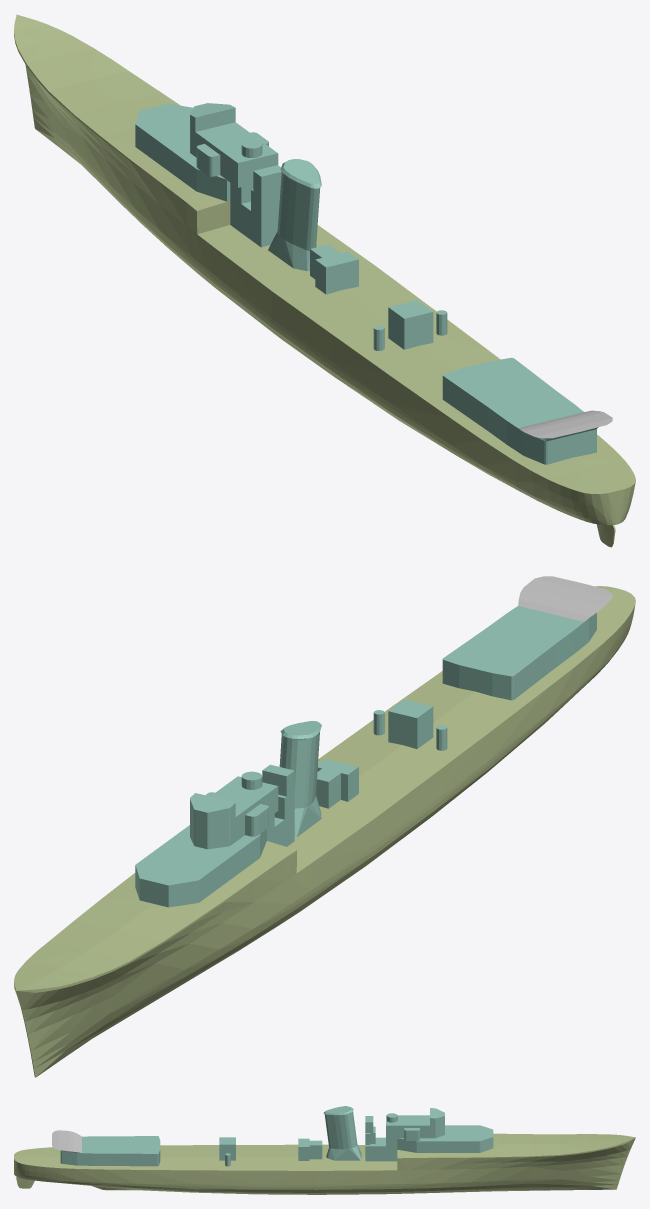
Rendered from PBSD108_armor.glb.
The picture shows the model from 3 angles, top to bottom: view 1: azimuth 30°, elevation 25°; view 2: azimuth 150°, elevation 25°; view 3: azimuth 270°, elevation 25°; orthographic projection. The views are drawn at different scales.
Visible parts, largest first — view 1: armor; view 2: armor; view 3: armor.
Part boxes in pixels (x1,y1,x2,y2): armor: (14,14,635,547); armor: (14,576,635,1077); armor: (14,1106,635,1194).
Bounding box in the file's own units: 20.27 × 28.73 × 200.
